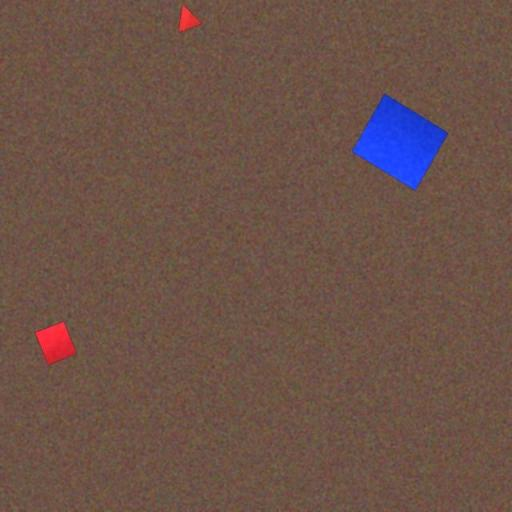BLUE_SQUARE: (351, 94, 450, 191)
RED_SQUARE: (34, 320, 78, 366)
